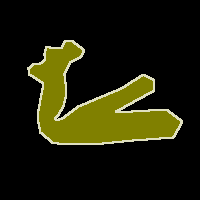tie: (28, 40, 182, 144)
